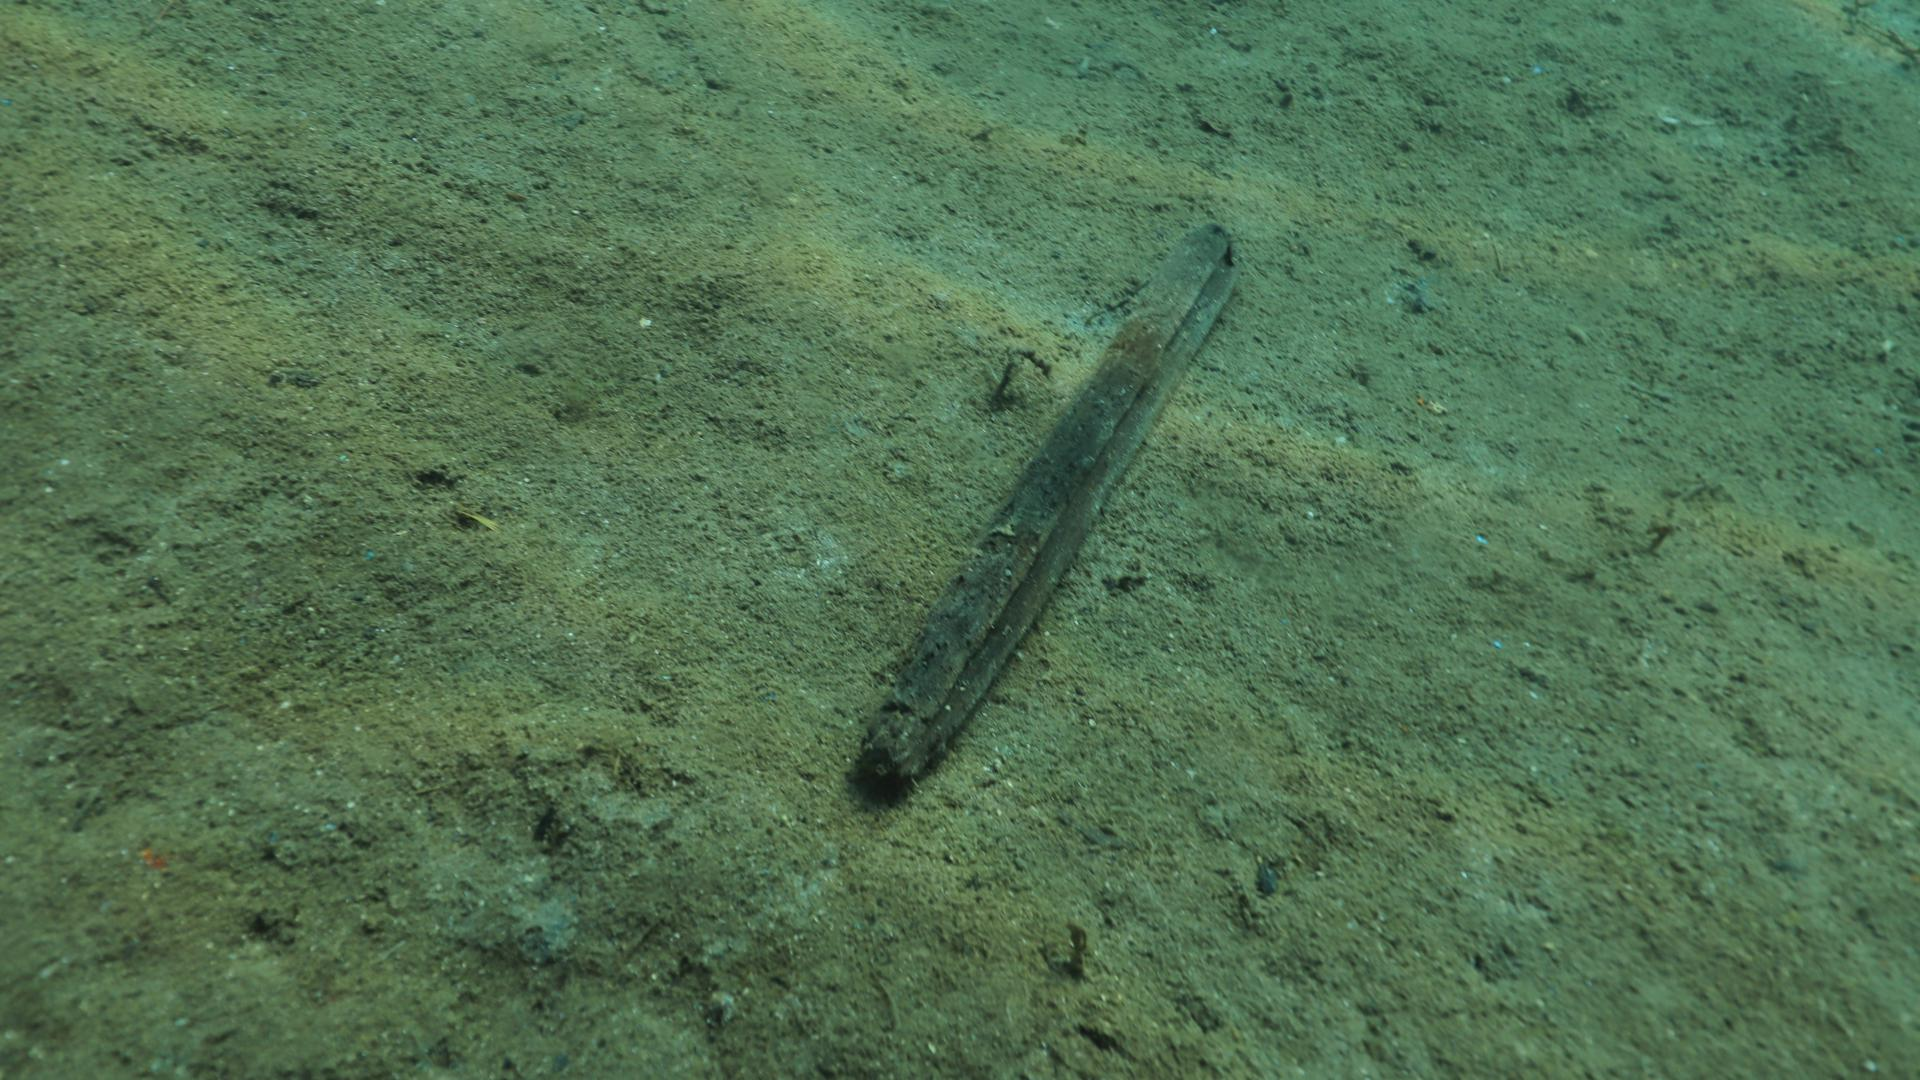wood: (855, 222, 1242, 778)
